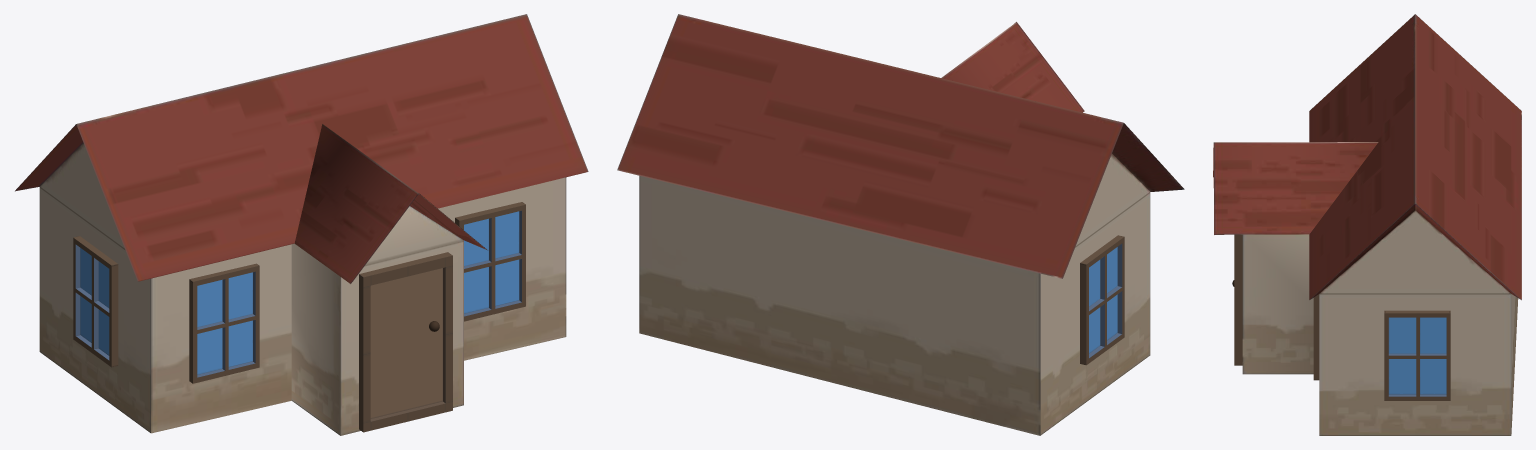
File: house.fbx
3 views of the same model, side by side, from view 1: azimuth 30°, elevation 25°; view 2: azimuth 150°, elevation 25°; view 3: azimuth 270°, elevation 25° (orthographic). The views are drawn at different scales.
Visible parts, largest first — view 1: pCube1, pCube2, pCube3, pCube4, pCube5, pCube7; view 2: pCube1, pCube2, pCube7; view 3: pCube1, pCube2, pCube6, pCube3, pCube5.
Part boxes in pixels (left/top/right/bottom): pCube1: left=15, top=14, right=588, bottom=433; pCube2: left=291, top=124, right=487, bottom=435; pCube3: left=359, top=252, right=452, bottom=432; pCube4: left=189, top=263, right=259, bottom=383; pCube5: left=455, top=202, right=525, bottom=321; pCube7: left=73, top=236, right=118, bottom=367; pCube1: left=617, top=14, right=1184, bottom=435; pCube2: left=941, top=22, right=1084, bottom=112; pCube7: left=1080, top=235, right=1124, bottom=365; pCube1: left=1309, top=14, right=1521, bottom=435; pCube2: left=1213, top=142, right=1378, bottom=374; pCube6: left=1384, top=310, right=1450, bottom=400; pCube3: left=1234, top=234, right=1242, bottom=365; pCube5: left=1313, top=294, right=1319, bottom=380.
Bounding box in the file's own units: 2.61 × 1.54 × 1.8.
